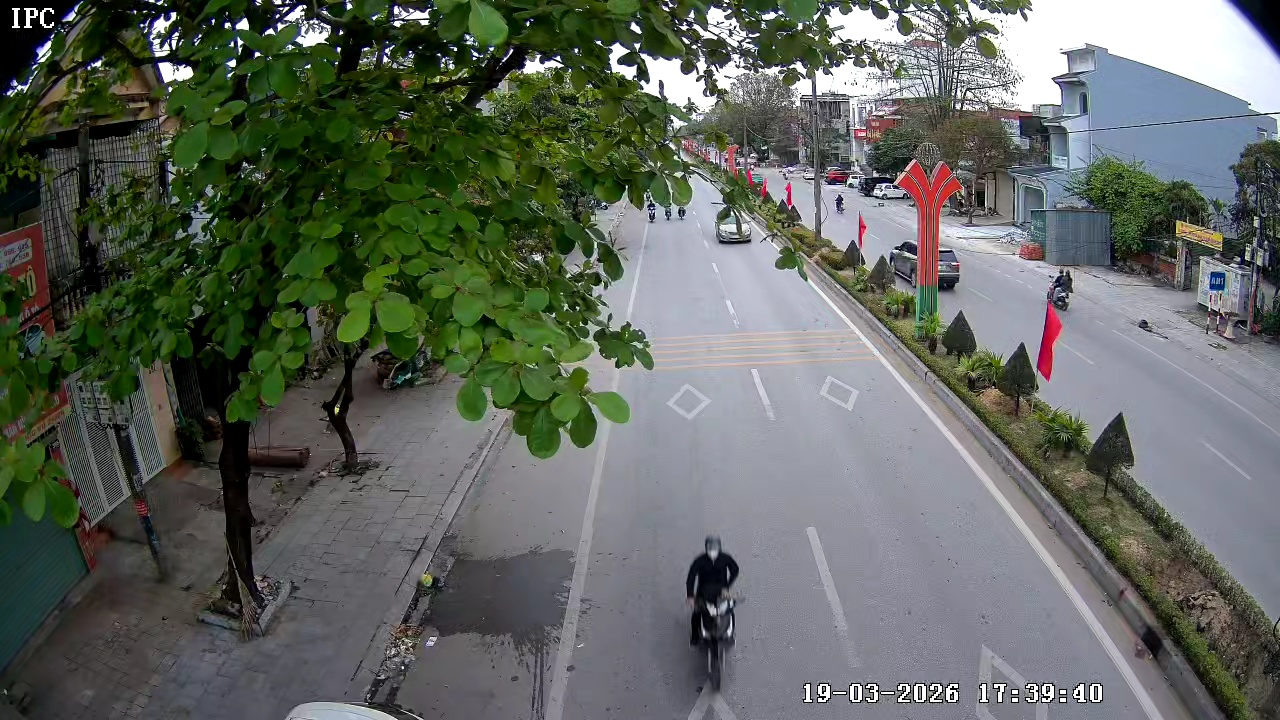car: (714, 207, 752, 246)
motorbike: (681, 533, 746, 694), (1044, 264, 1074, 312)
